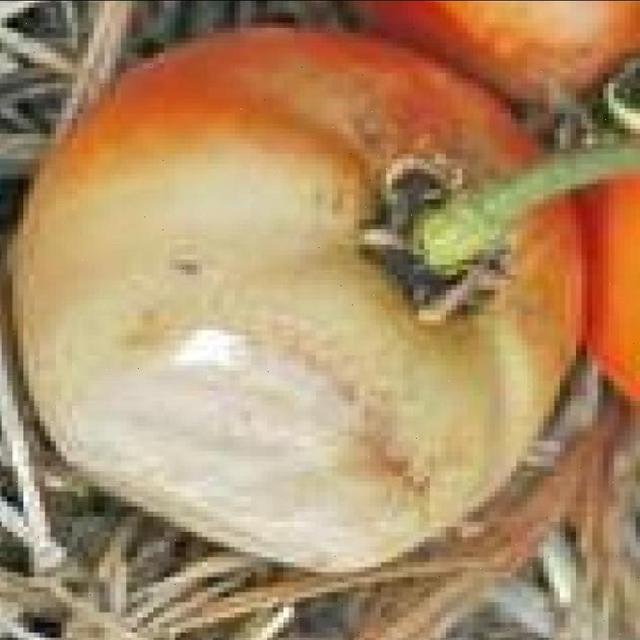Sunscald Fruit: (21, 90, 361, 373)
